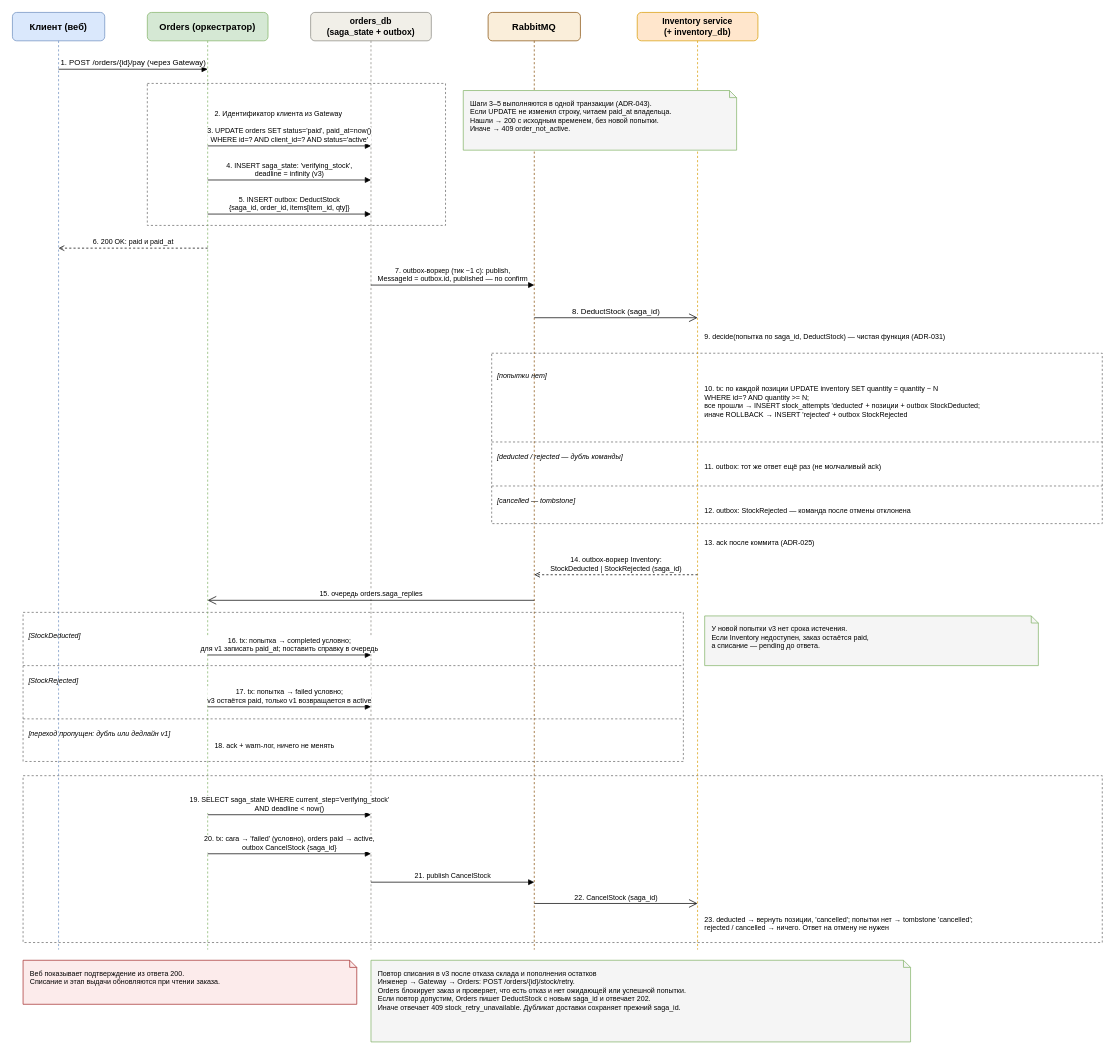
Some shapes in this 1115 by 1054 pixel diagram are drawn without their labels. The box of each missing label's shape, as (x1, y1, x2, y2) in pixels:
alt: ответ (консьюмер ответов Orders): (22, 612, 683, 761)
alt: попытка по saga_id (stock_attempts): (491, 353, 1102, 524)
loop: воркер дедлайнов Orders — только для оставшихся попыток v1: (22, 775, 1102, 943)
транзакция (репозиторий Orders): (147, 83, 446, 225)
